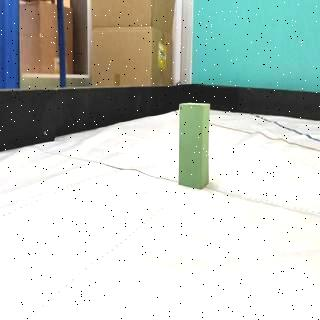greenbox: (178, 102, 211, 189)
